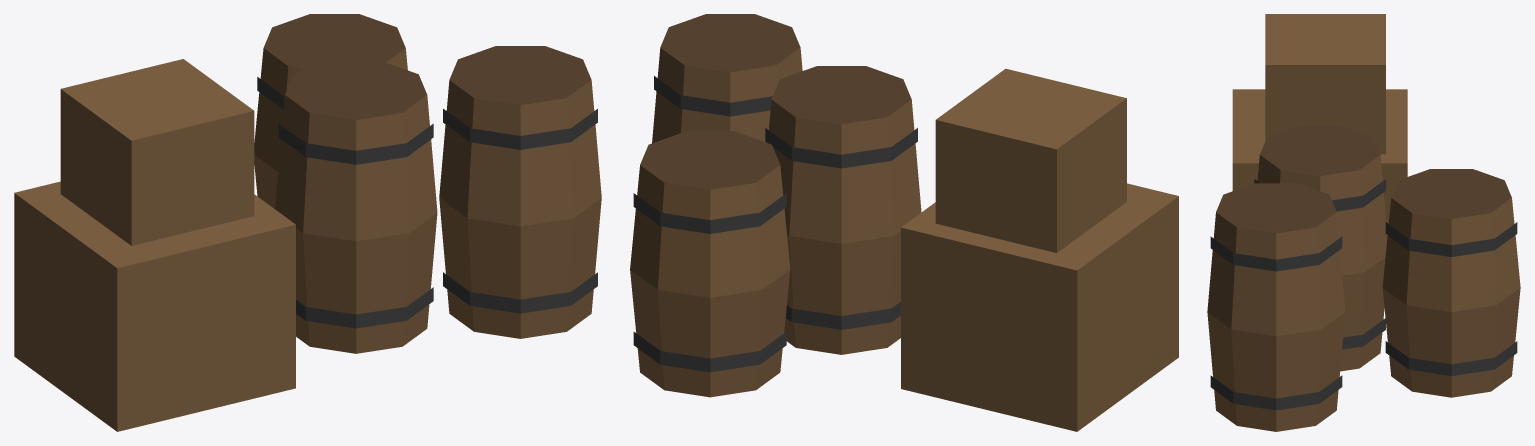
The model's file is barrels.glb.
3 views of the same model, side by side, from view 1: azimuth 30°, elevation 25°; view 2: azimuth 150°, elevation 25°; view 3: azimuth 270°, elevation 25° (orthographic). The views are drawn at different scales.
Visible parts, largest first — view 1: barrels; view 2: barrels; view 3: barrels.
Part boxes in pixels (box(x1,y1,x2,y2)): barrels: box(14, 14, 601, 431); barrels: box(630, 14, 1178, 431); barrels: box(1207, 14, 1520, 431).
Size of the model in its own units: 2.24 by 1.15 by 1.43.
